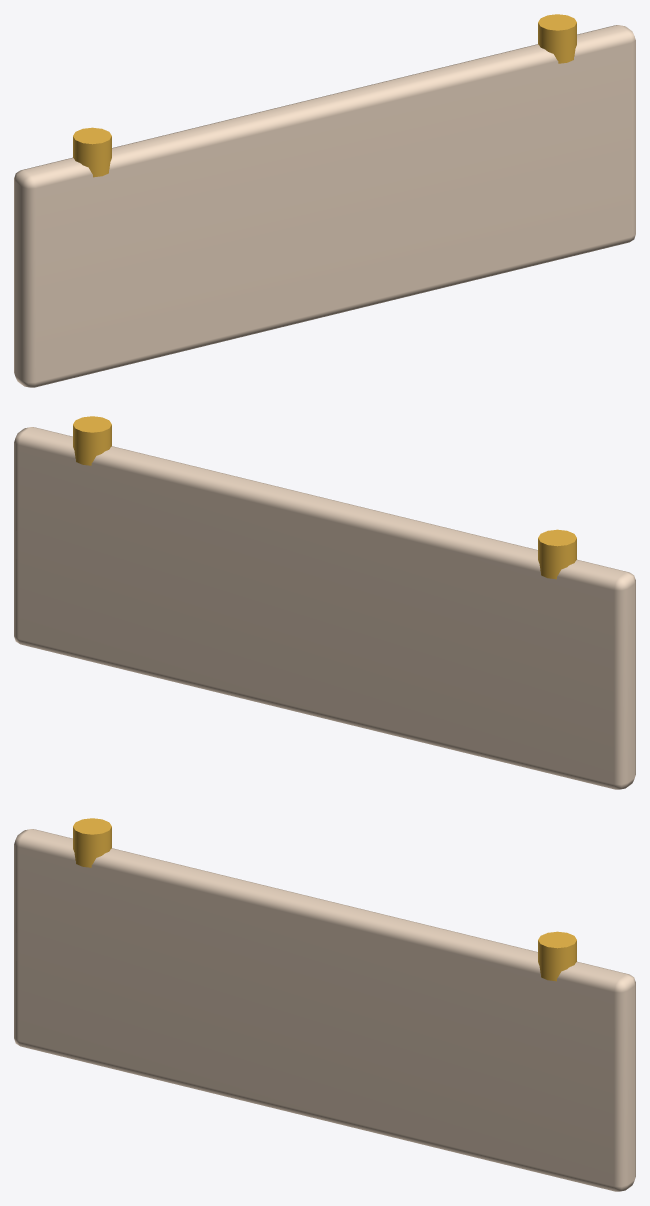
The model's file is price_tag.glb.
3 renders of one model, top to bottom at view 1: azimuth 30°, elevation 25°; view 2: azimuth 150°, elevation 25°; view 3: azimuth 330°, elevation 25°, orthographic.
Visible parts, largest first — view 1: tag_card, tag_rivet.001, tag_rivet; view 2: tag_card, tag_rivet.001, tag_rivet; view 3: tag_card, tag_rivet, tag_rivet.001.
Boxes of the visible parts, x1,y1,x2,y2 form: tag_card: (14, 25, 635, 387); tag_rivet.001: (538, 14, 576, 63); tag_rivet: (73, 127, 111, 177); tag_card: (14, 427, 635, 789); tag_rivet.001: (73, 416, 111, 465); tag_rivet: (538, 529, 576, 579); tag_card: (14, 829, 635, 1191); tag_rivet: (73, 818, 111, 867); tag_rivet.001: (538, 931, 576, 981).
Size of the model in its own units: 0.29 by 0.1055 by 0.016.
